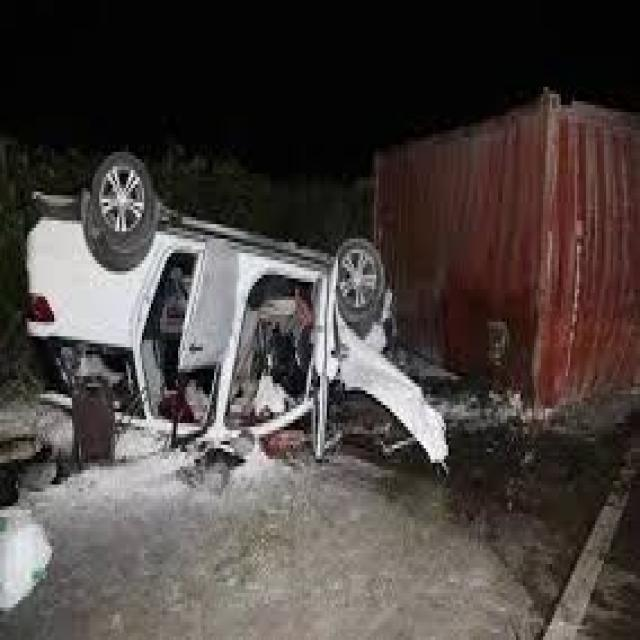accident: (4, 143, 460, 501)
